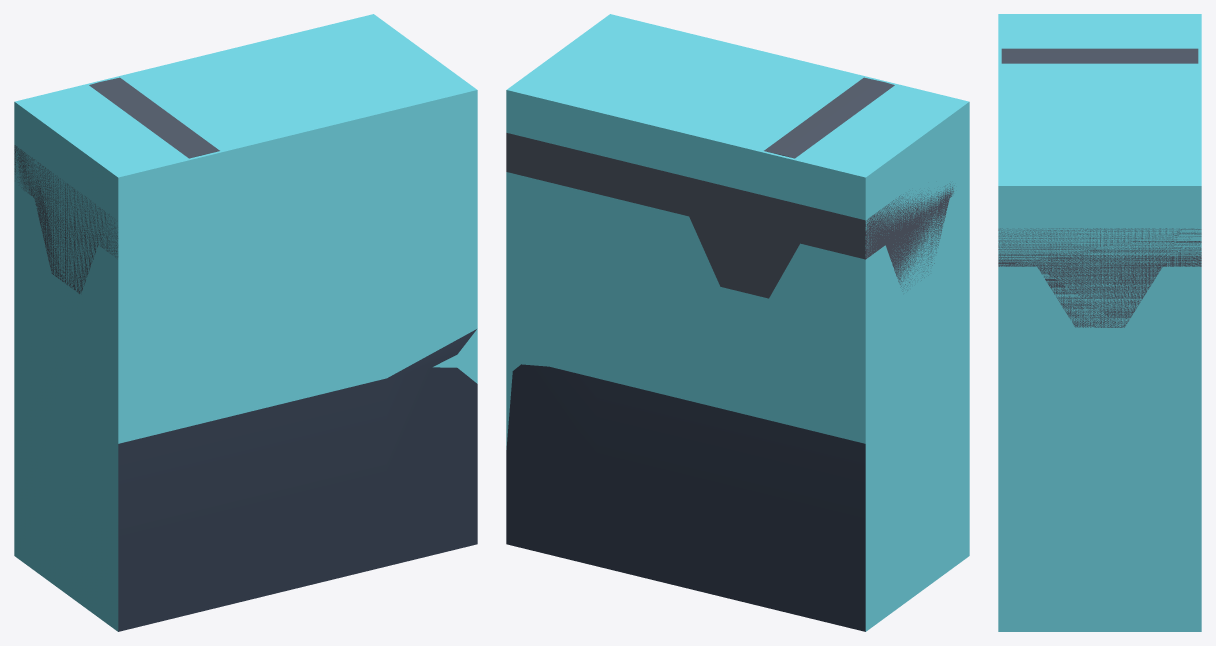
The model's file is PBOX2_MudFLA_01.FBX.
3 renders of one model, left to right at view 1: azimuth 30°, elevation 25°; view 2: azimuth 150°, elevation 25°; view 3: azimuth 270°, elevation 25°, orthographic.
Visible parts, largest first — view 1: PBOX2_MudFLA_01, PBOX2_SUB_TAB_FlA_004, PBOX2_SUB_MudFlA_003; view 2: PBOX2_MudFLA_01, PBOX2_SUB_TAB_FlA_004, PBOX2_SUB_MudFlA_003; view 3: PBOX2_MudFLA_01, PBOX2_SUB_MudFlA_003.
Part boxes in pixels (x1,y1,x2,y2): PBOX2_MudFLA_01: [14, 14, 477, 631]; PBOX2_SUB_TAB_FlA_004: [118, 329, 477, 631]; PBOX2_SUB_MudFlA_003: [14, 77, 219, 293]; PBOX2_MudFLA_01: [506, 14, 969, 631]; PBOX2_SUB_TAB_FlA_004: [506, 364, 865, 631]; PBOX2_SUB_MudFlA_003: [506, 77, 954, 298]; PBOX2_MudFLA_01: [998, 14, 1201, 631]; PBOX2_SUB_MudFlA_003: [998, 48, 1201, 327].
Bounding box in the file's own units: 12 × 14.52 × 6.
